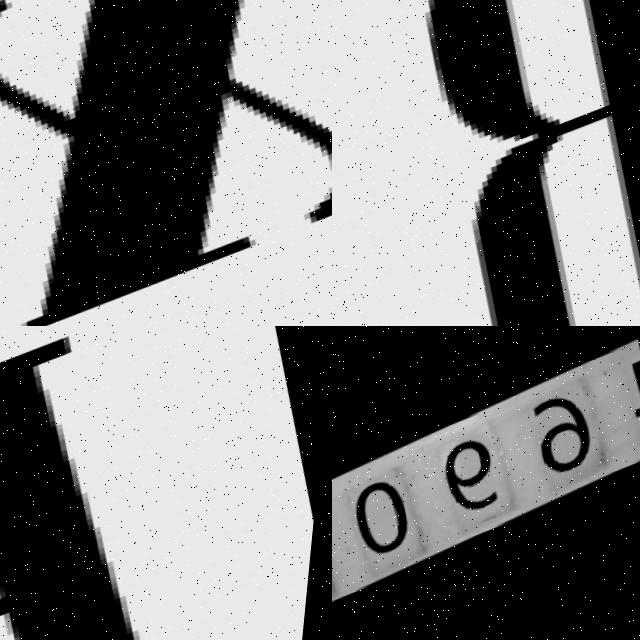0: (343, 464, 440, 582)
4: (611, 354, 640, 464)
6: (520, 380, 622, 506)
9: (433, 425, 527, 541)
R: (332, 0, 640, 326), (0, 326, 299, 640)
X: (0, 0, 332, 326)
